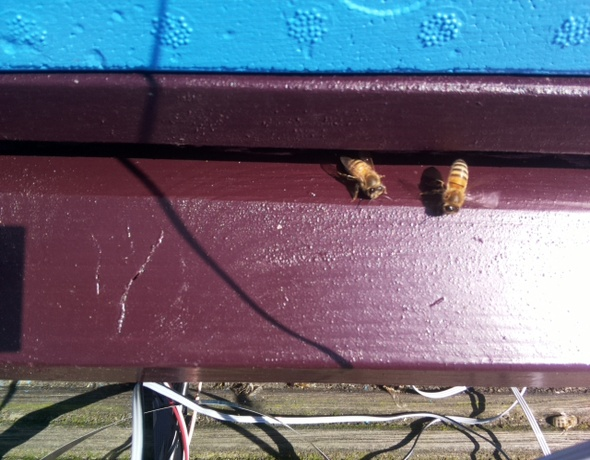no_pollen: (333, 152, 391, 203), (436, 154, 472, 217)
